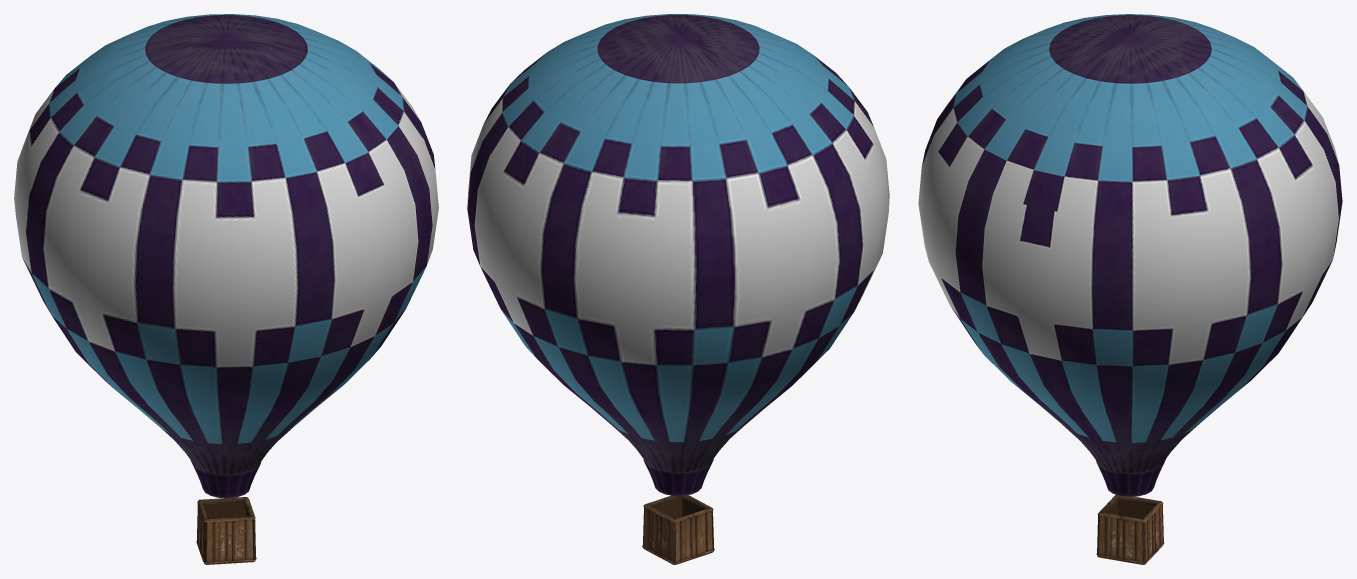
The model's file is Balloon_4.fbx.
3 renders of one model, left to right at view 1: azimuth 30°, elevation 25°; view 2: azimuth 150°, elevation 25°; view 3: azimuth 270°, elevation 25°, orthographic.
Parts seen in each view (by area): view 1: BA_4, crate_4; view 2: BA_4, crate_4; view 3: BA_4, crate_4.
Boxes of the visible parts, x1,y1,x2,y2 form: BA_4: (14, 14, 438, 498); crate_4: (196, 497, 256, 564); BA_4: (467, 14, 889, 495); crate_4: (642, 495, 714, 564); BA_4: (918, 14, 1342, 496); crate_4: (1096, 494, 1164, 564).
Bounding box in the file's own units: 2265 × 3027 × 2265.
Materials: 2 (2 with a texture image).
